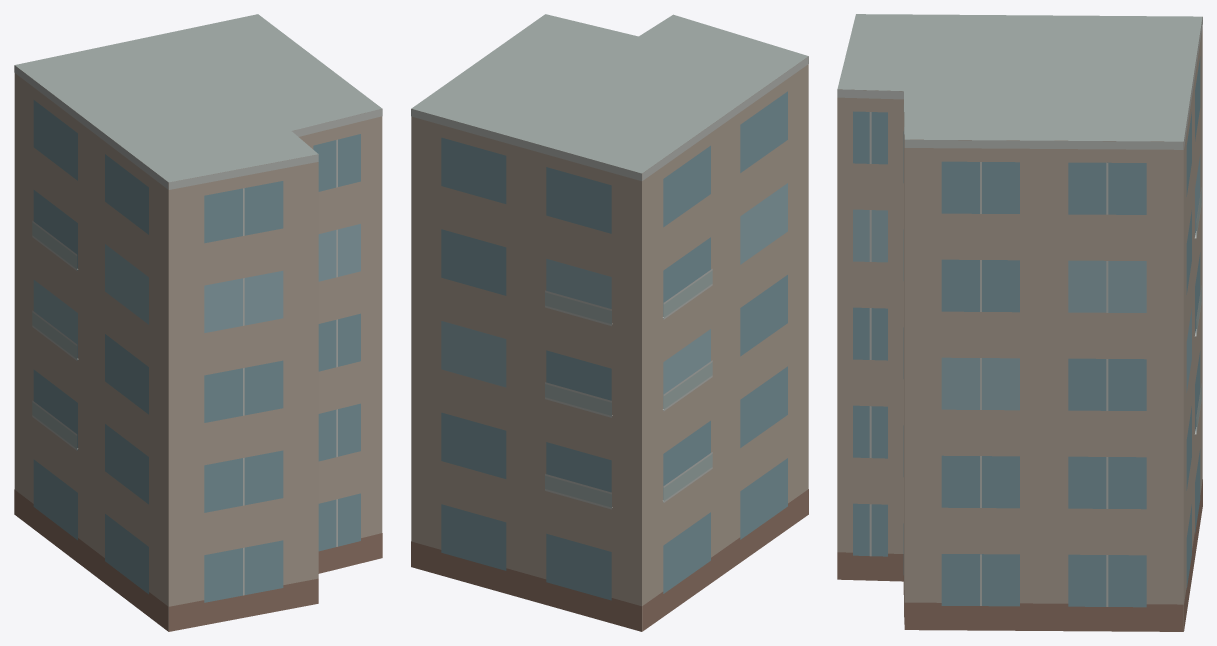
File: survey-upis-32754752.glb
The picture shows the model from 3 angles, left to right: view 1: azimuth 30°, elevation 25°; view 2: azimuth 150°, elevation 25°; view 3: azimuth 270°, elevation 25°; orthographic projection. The views are drawn at different scales.
Visible parts, largest first — view 1: survey-upis-32754752.tmp; view 2: survey-upis-32754752.tmp; view 3: survey-upis-32754752.tmp.
Part boxes in pixels (x1,y1,x2,y2): survey-upis-32754752.tmp: (14, 14, 382, 631); survey-upis-32754752.tmp: (411, 14, 808, 631); survey-upis-32754752.tmp: (837, 14, 1202, 631).
Bounding box in the file's own units: 8.05 × 14.4 × 9.73.
